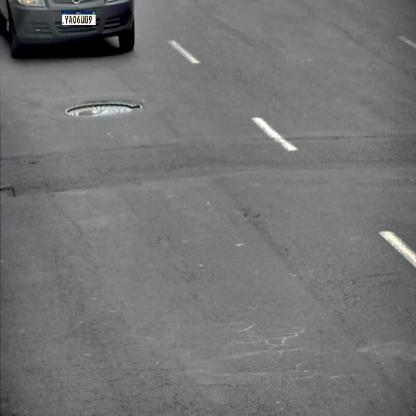PlacaM: (61, 10, 96, 26)
